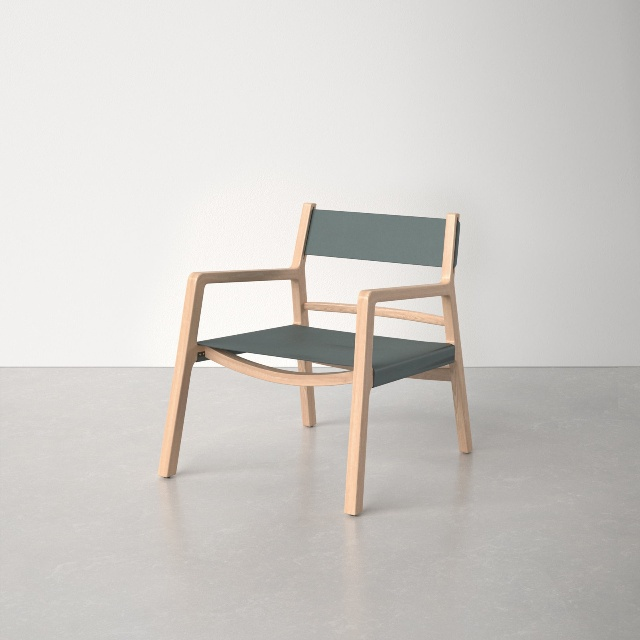obstacle: (159, 203, 472, 515)
